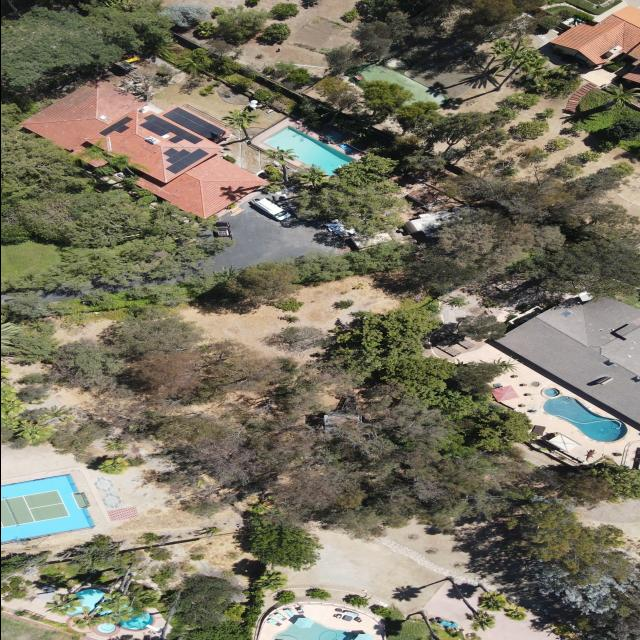solar-panels: (137, 111, 203, 154), (161, 102, 225, 145), (157, 133, 208, 177), (98, 114, 135, 143)
